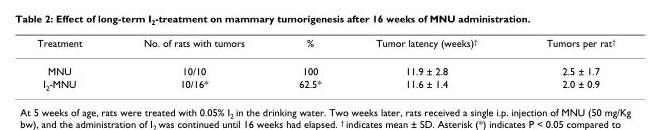table: (36, 36, 614, 91)
table column: (347, 36, 511, 91), (112, 36, 271, 91), (511, 36, 614, 91), (36, 36, 112, 91), (271, 36, 347, 91)
table column header: (36, 36, 614, 56)
table row: (36, 56, 614, 77), (36, 36, 614, 56), (36, 77, 614, 91)
